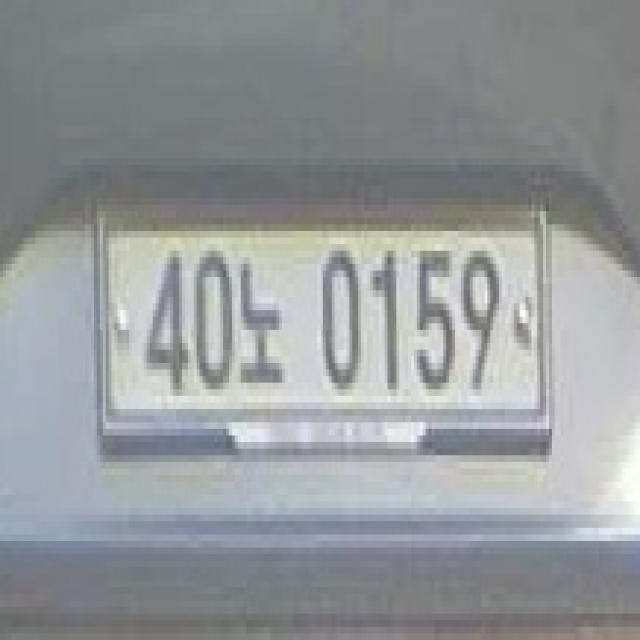0: (191, 244, 235, 396), (317, 244, 361, 389)
1: (370, 244, 402, 396)
4: (144, 251, 191, 396)
5: (411, 244, 455, 396)
9: (458, 237, 499, 396)
license_plate: (97, 192, 555, 436)
no: (238, 251, 282, 389)
